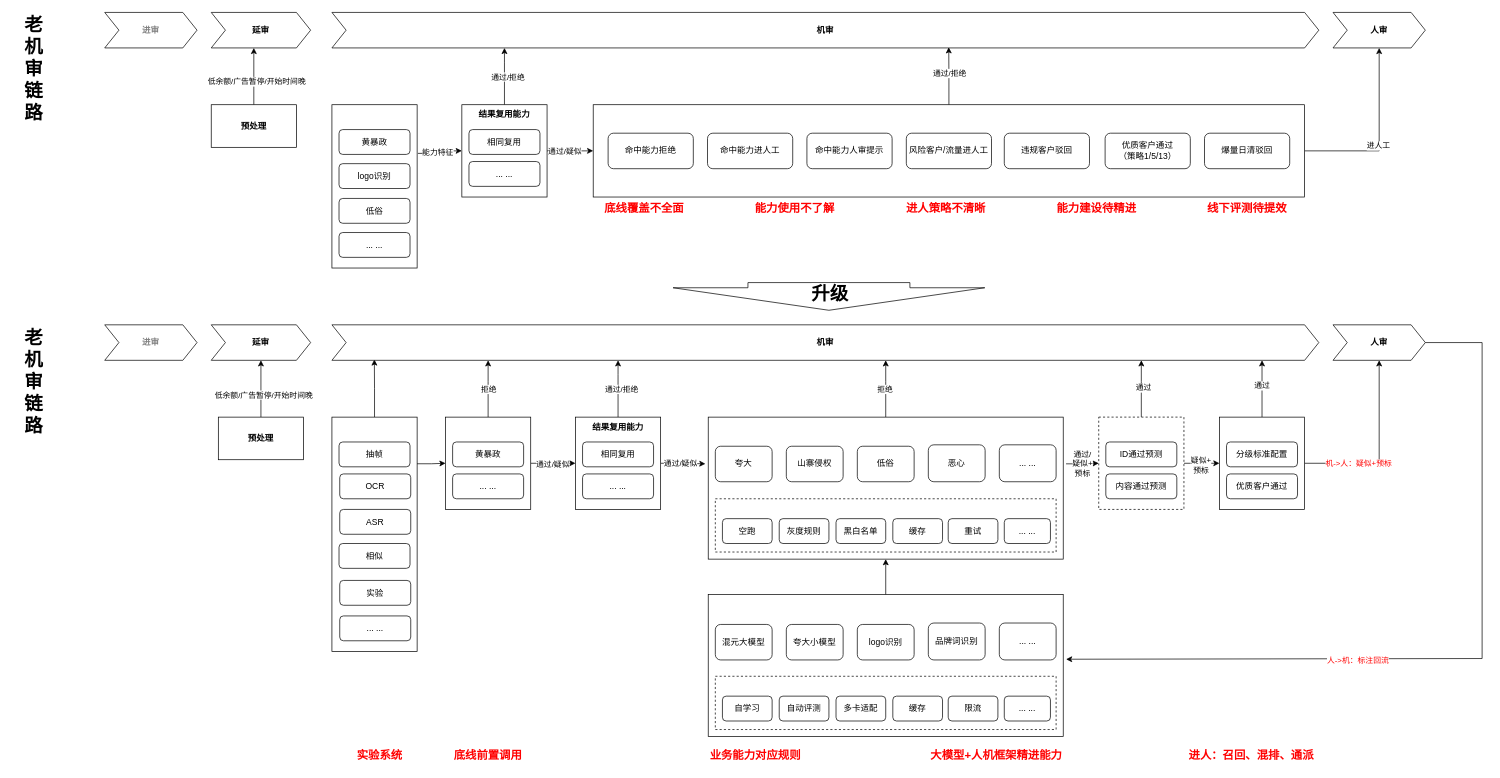
Image size: 1500x778. Some labels were removed from this diagram. The box of each missing label's shape, as (x1, y1, x2, y2) in pixels:
业务AI能力: (708, 416, 1063, 559)
业务组件: (715, 498, 1056, 552)
分级机制能力: (1219, 416, 1305, 509)
原子组件: (715, 676, 1056, 730)
原子能力: (708, 594, 1063, 737)
原子能力调用: (331, 104, 417, 268)
基础信息提取能力: (331, 416, 417, 651)
底线检测能力: (445, 416, 531, 509)
规则引擎（ 40+个配置维度，16000+条规则 ）: (592, 104, 1305, 197)
通过检测能力: (1098, 416, 1184, 509)
